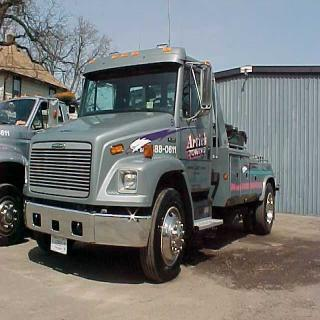Towing_truck: (21, 42, 280, 284), (0, 93, 79, 245)
